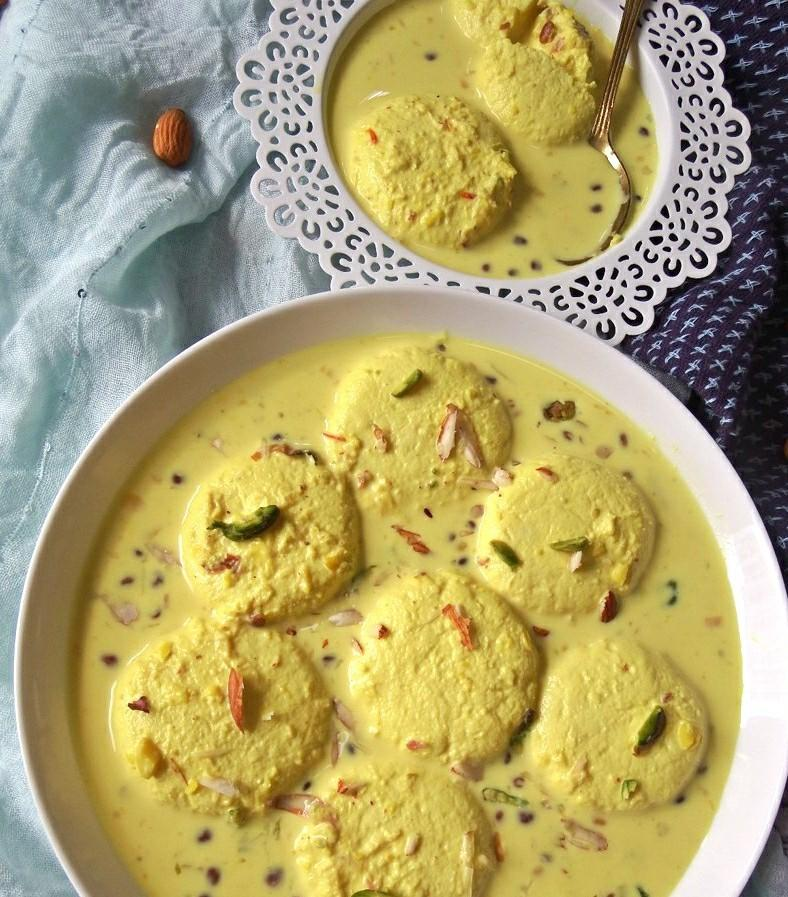RasMalai: (95, 330, 747, 897), (327, 0, 659, 269)
